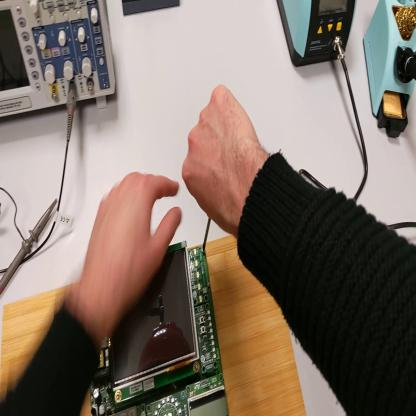hand: (77, 170, 180, 339), (181, 88, 260, 233)
low voltage board: (92, 237, 232, 412)
oscilloscope: (2, 1, 117, 120)
oscilloscope probe tip: (2, 200, 56, 297)
screwdriver-: (204, 216, 213, 249)
welder base: (363, 1, 416, 140)
welder station: (277, 1, 357, 74)
working area: (2, 236, 307, 416)
